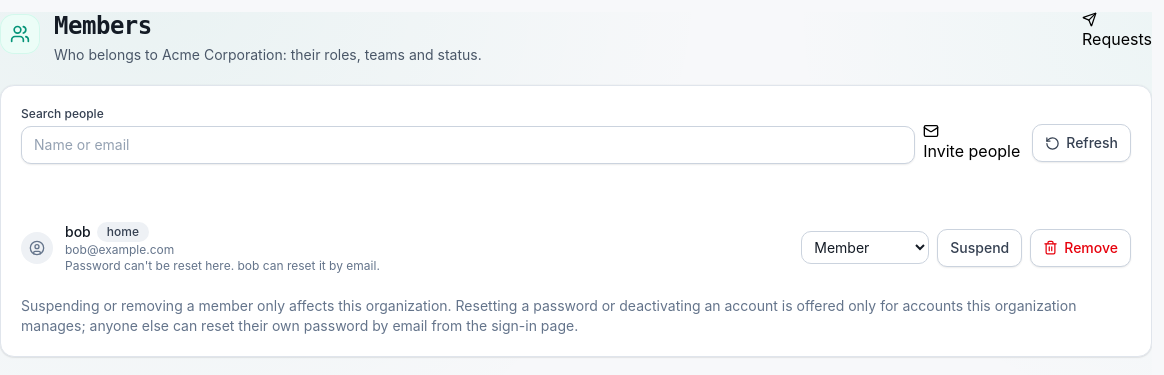
Scenario: OrgUsersPage › explains a 404 from an action without naming anything beyond this org
Click the button "Suspend". click: point(980, 248)
box: x1=937 y1=229 x2=1022 y2=267
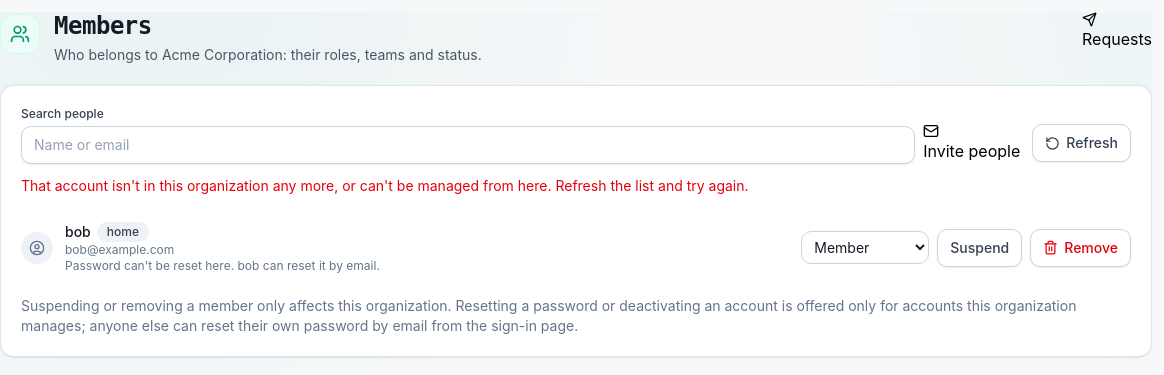
Expected: the text "isn't in this organization any more, or can't be managed from here" is shown, x1=21 y1=177 x2=749 y2=194
